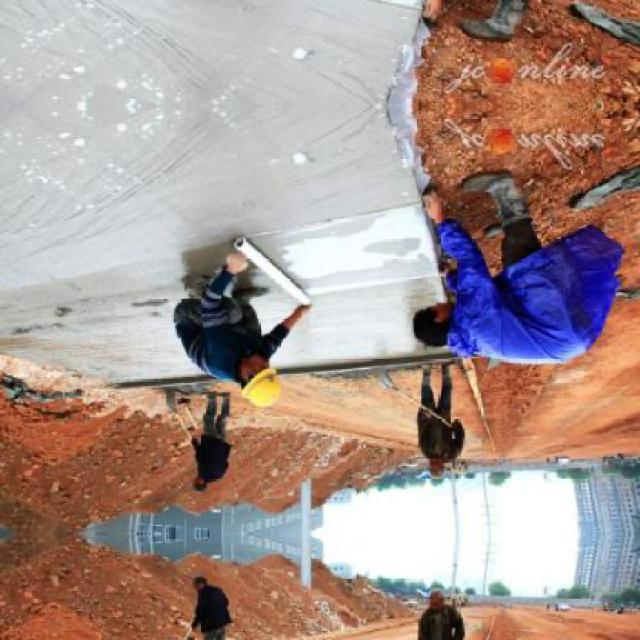con casco: (220, 336, 300, 414)
sin casco: (414, 282, 490, 364)
